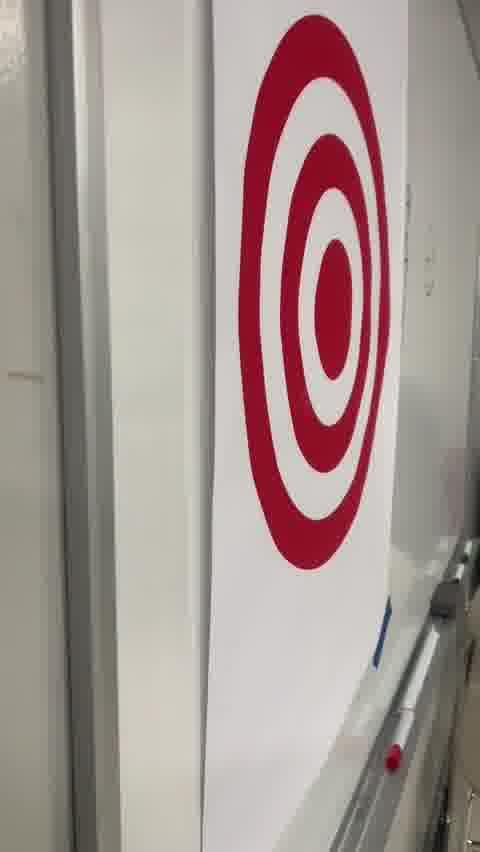target_red: (238, 15, 389, 566)
